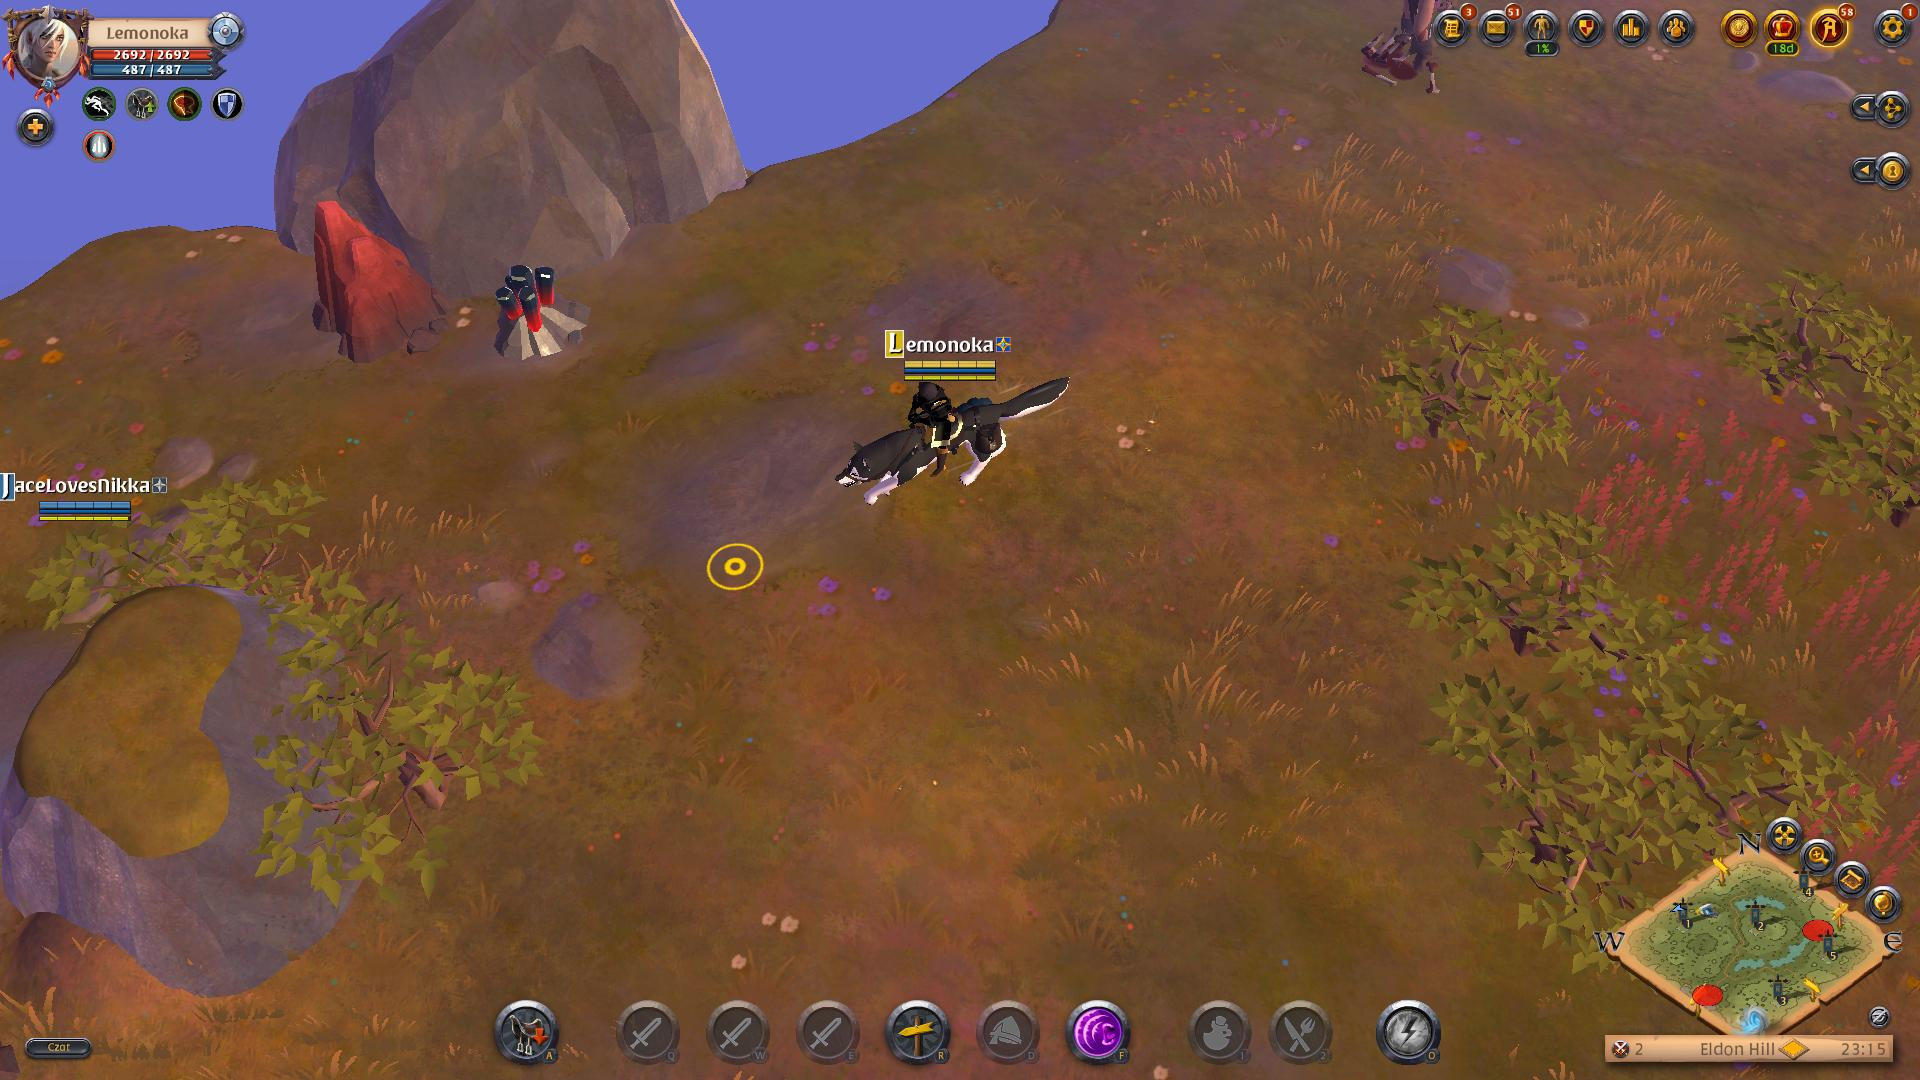ore tier 5: (491, 261, 588, 360)
rock tier 5: (307, 195, 450, 365)
